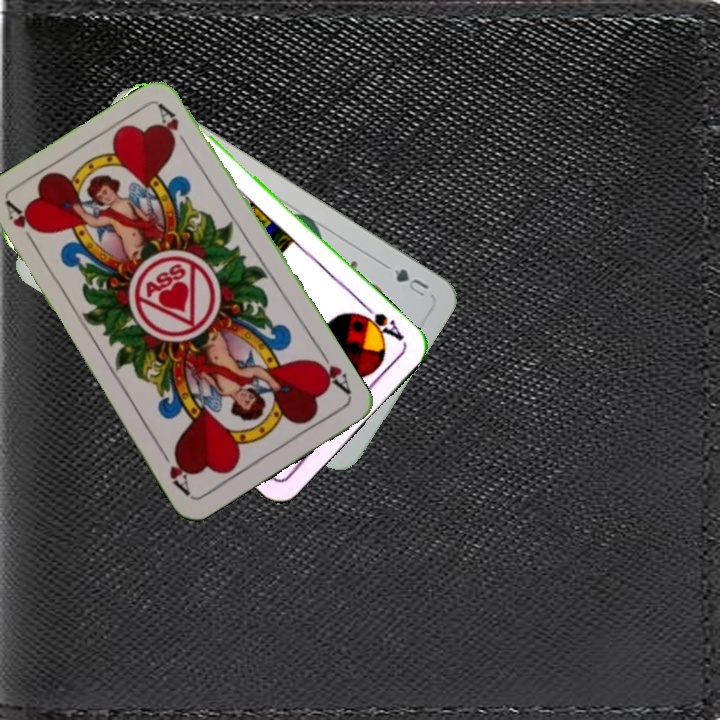GU: (390, 264, 432, 299)
HA: (309, 345, 354, 399), (2, 198, 41, 251)
SA: (353, 300, 407, 344)
